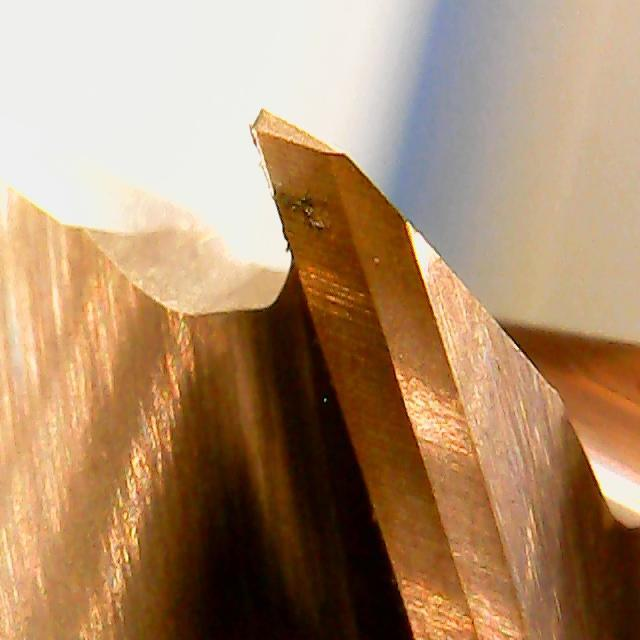Tool-wear-class-1: (227, 100, 429, 370)
